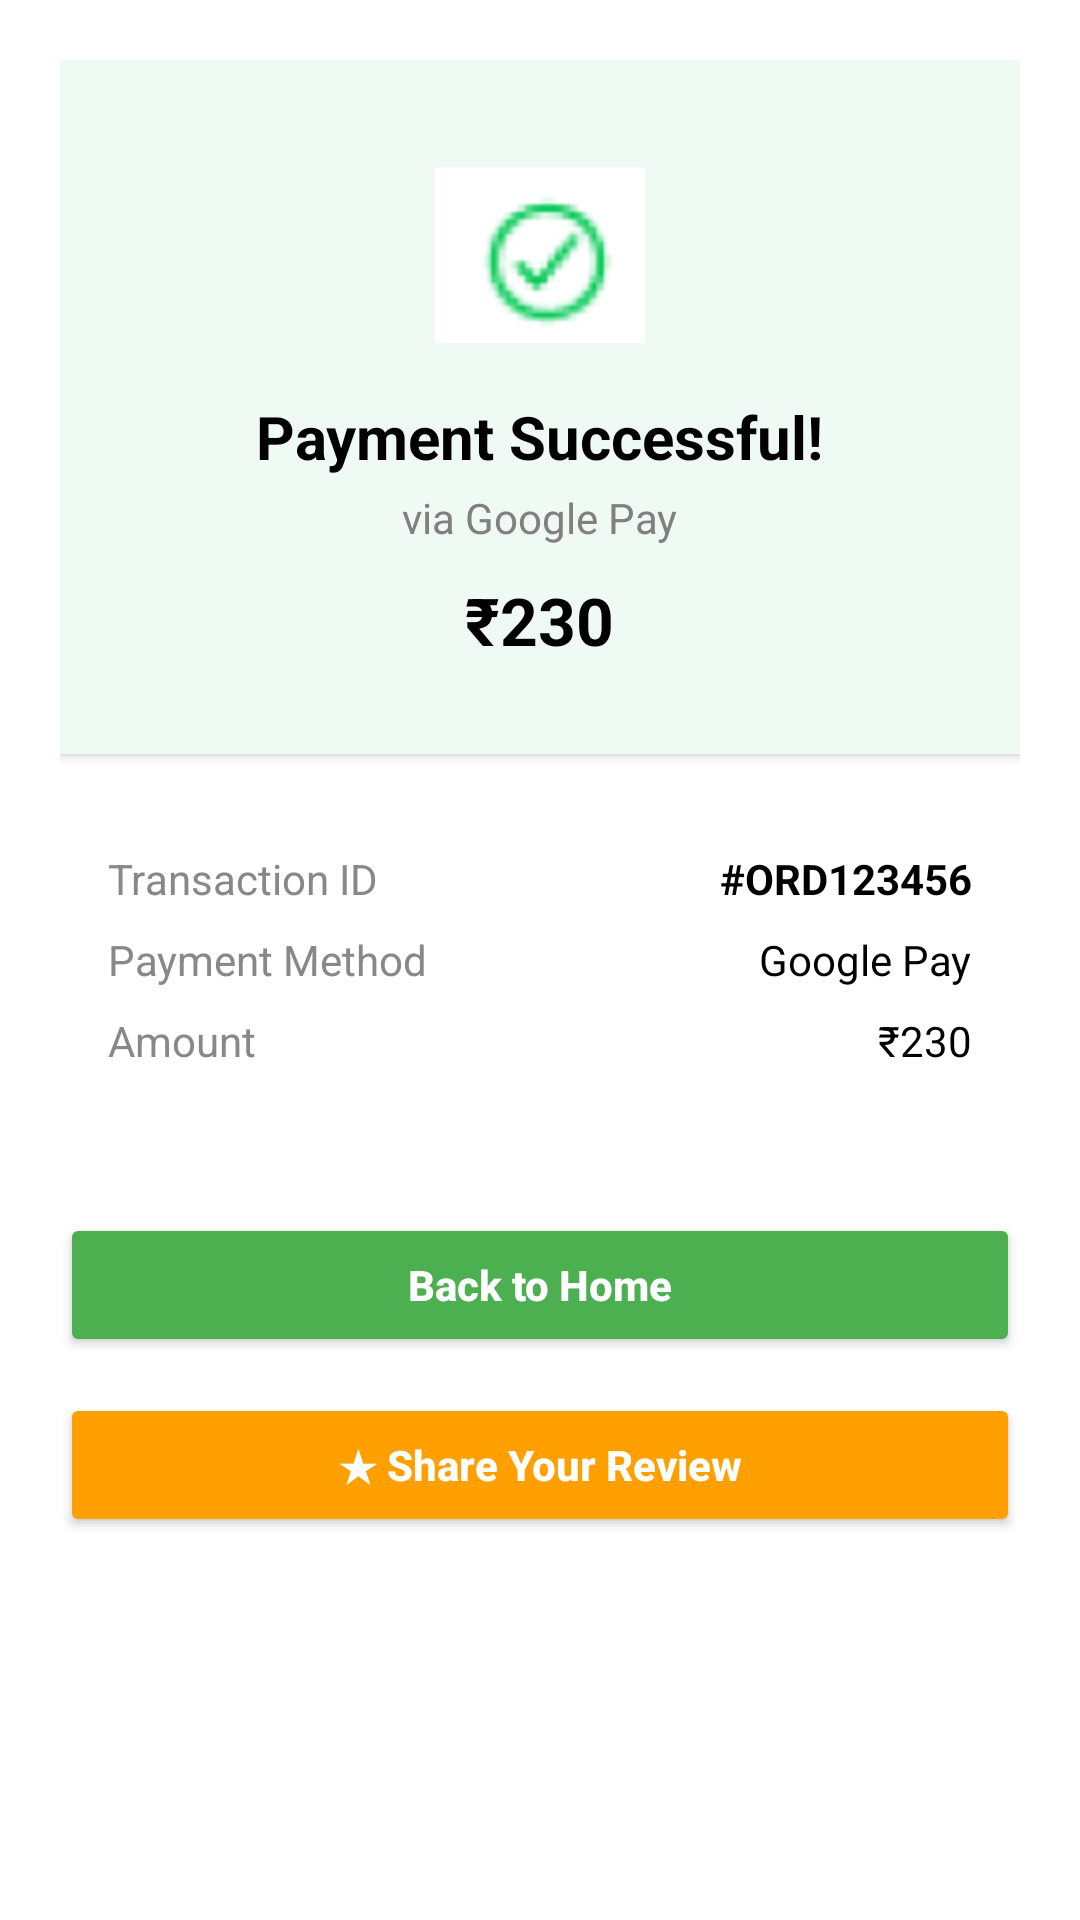

Where to tap for icons on this 1080px x 1920px app screen, as (x=x, y=y):
check: (x=540, y=255)
